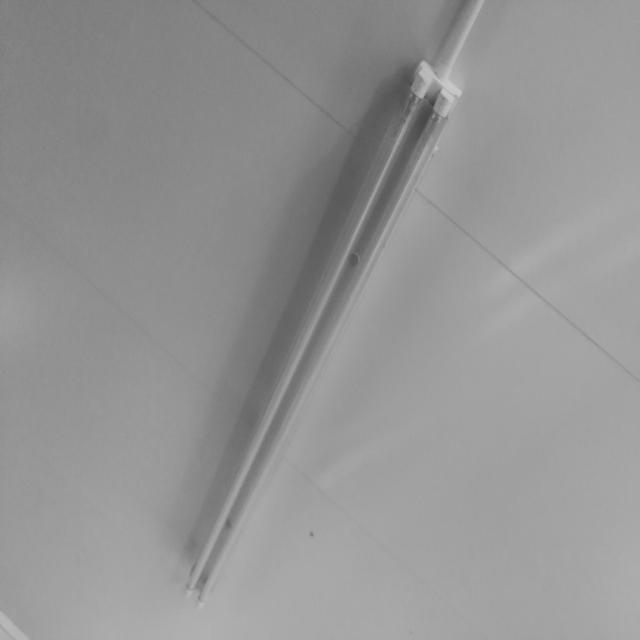light: (184, 52, 459, 608)
